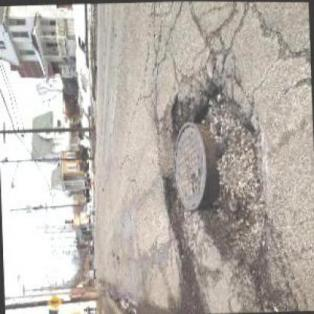Hueco: (169, 79, 272, 268), (160, 172, 187, 234)
